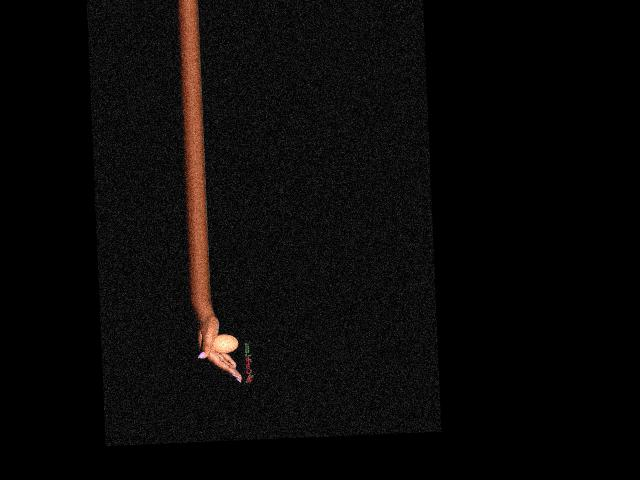egg: (212, 333, 238, 353)
